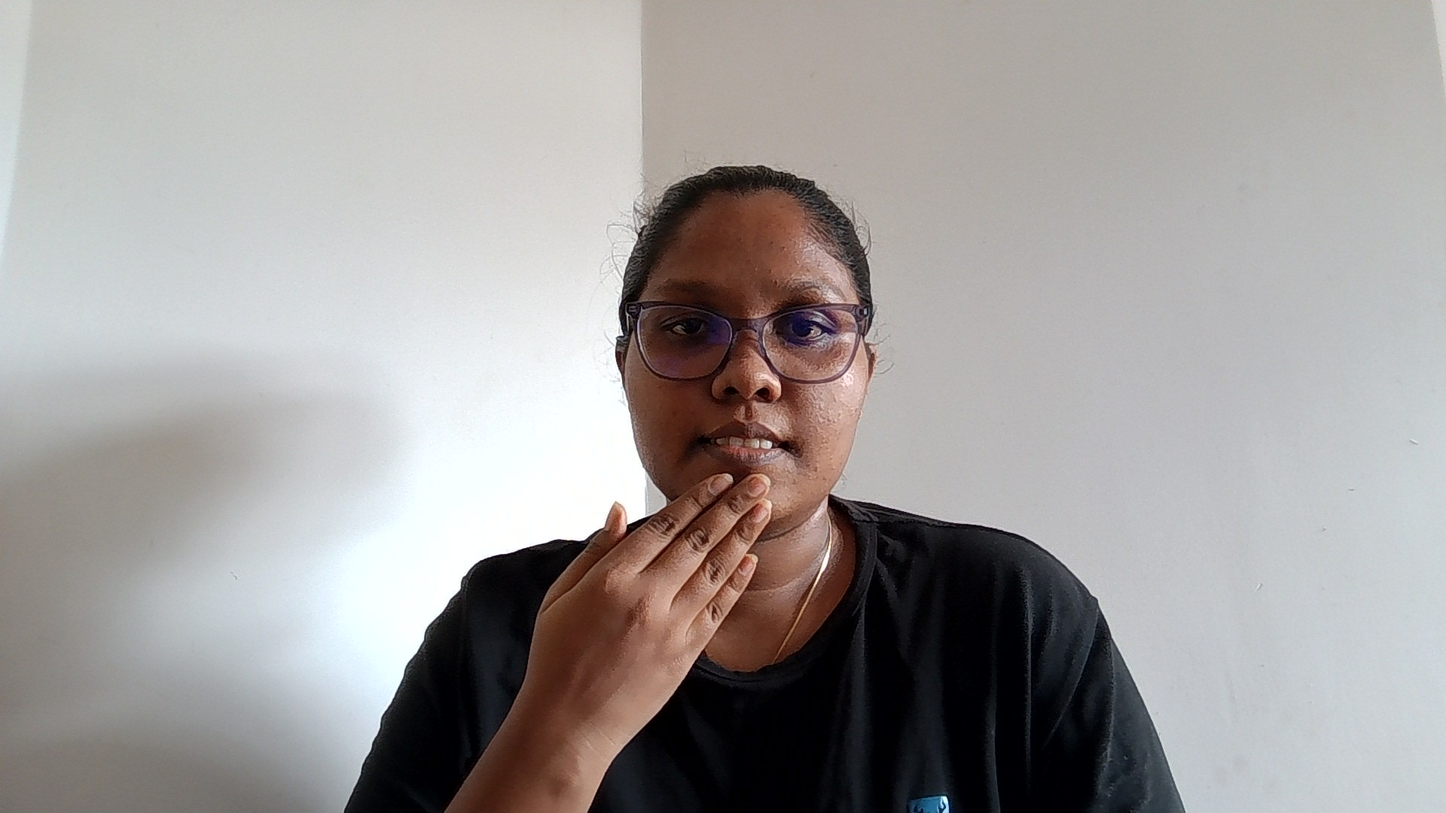Thank You: (533, 450, 1004, 735)
